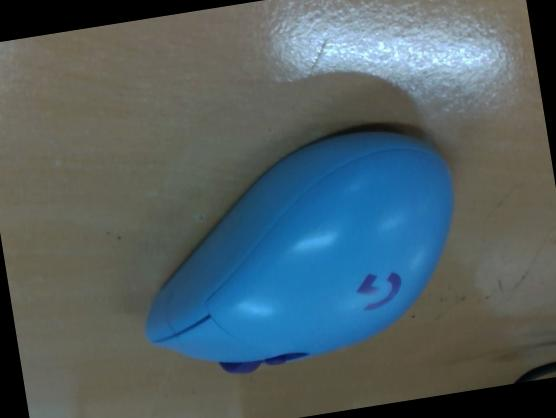mouse: (144, 124, 456, 373)
